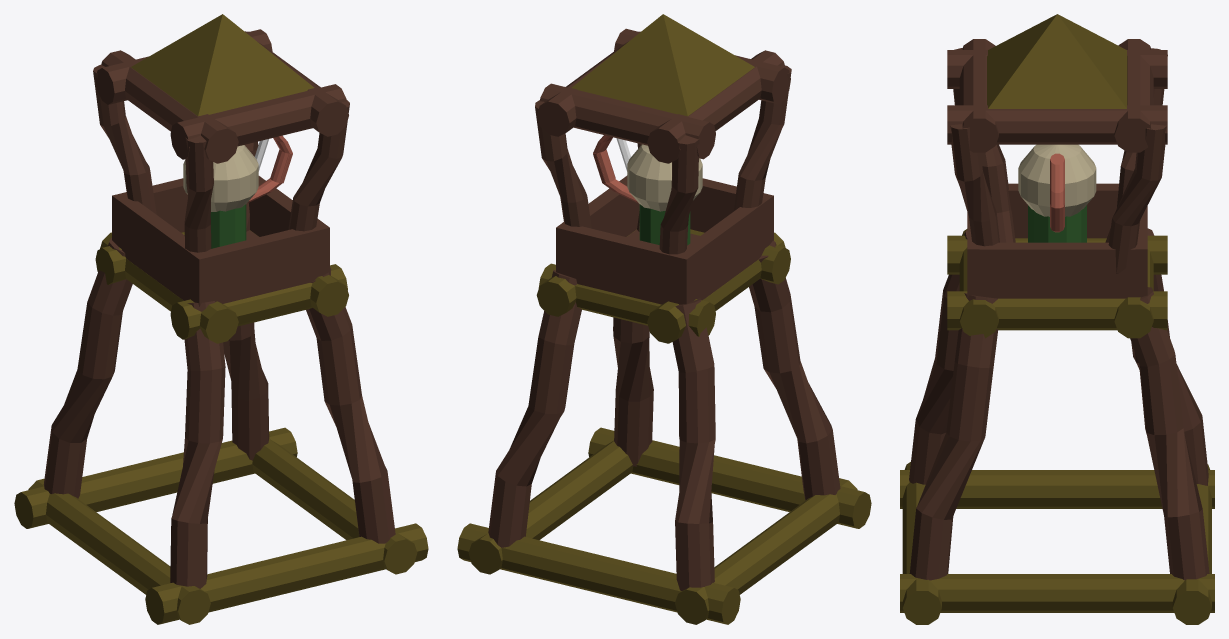
Rendered from ArcherTower regular.fbx.
The picture shows the model from 3 angles, left to right: view 1: azimuth 30°, elevation 25°; view 2: azimuth 150°, elevation 25°; view 3: azimuth 270°, elevation 25°; orthographic projection. The views are drawn at different scales.
Parts seen in each view (by area): view 1: Cylinder.002, Bow.001; view 2: Cylinder.002, Bow.001; view 3: Cylinder.002, Bow.001.
Boxes of the visible parts, bbox=[...] form: Cylinder.002: bbox=[14, 14, 428, 624]; Bow.001: bbox=[183, 135, 292, 248]; Cylinder.002: bbox=[457, 14, 871, 624]; Bow.001: bbox=[593, 135, 702, 245]; Cylinder.002: bbox=[900, 14, 1214, 624]; Bow.001: bbox=[1018, 144, 1096, 242].
Size of the model in its own units: 768 by 1468 by 768.
